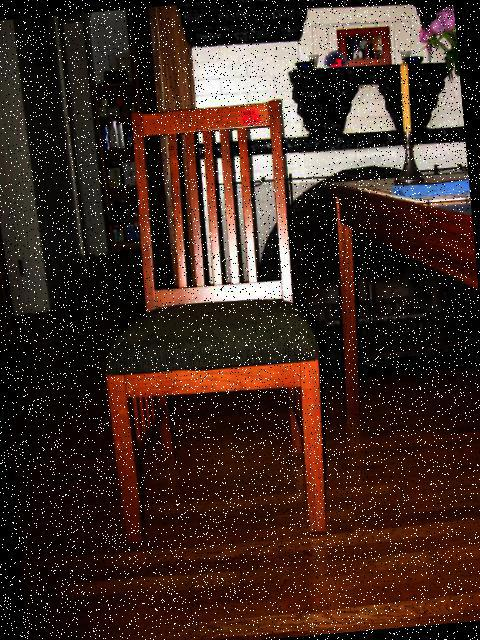Silla: (89, 102, 334, 546)
